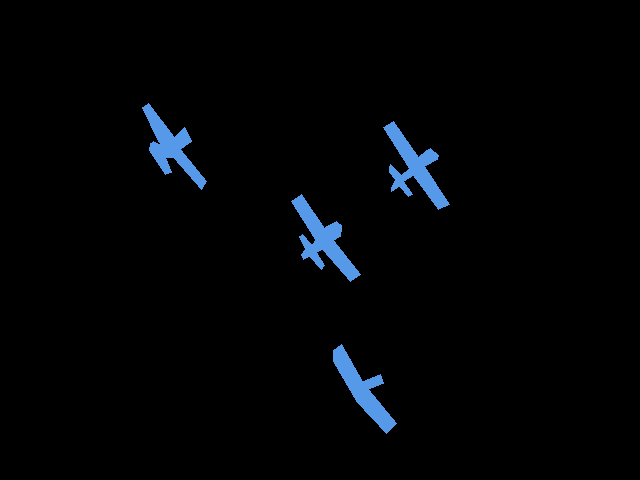Airplane: (291, 194, 361, 281), (383, 121, 449, 209), (333, 344, 396, 434), (142, 103, 206, 189)
